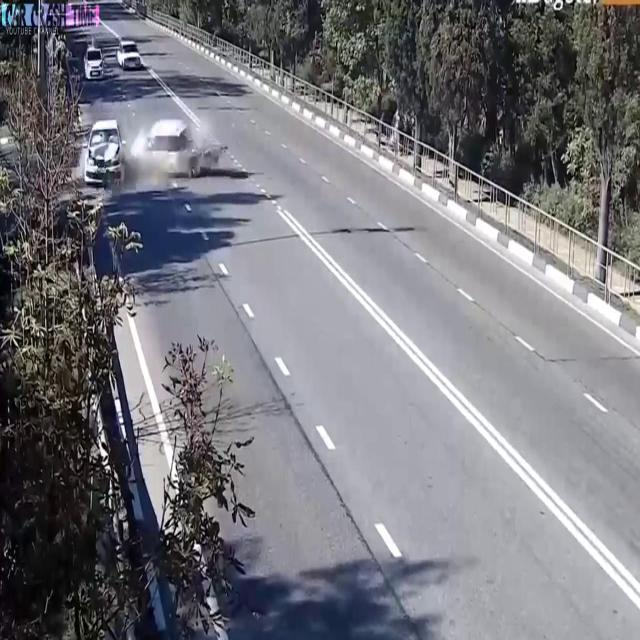accident: (80, 104, 224, 200)
non_accident: (79, 35, 145, 88)
